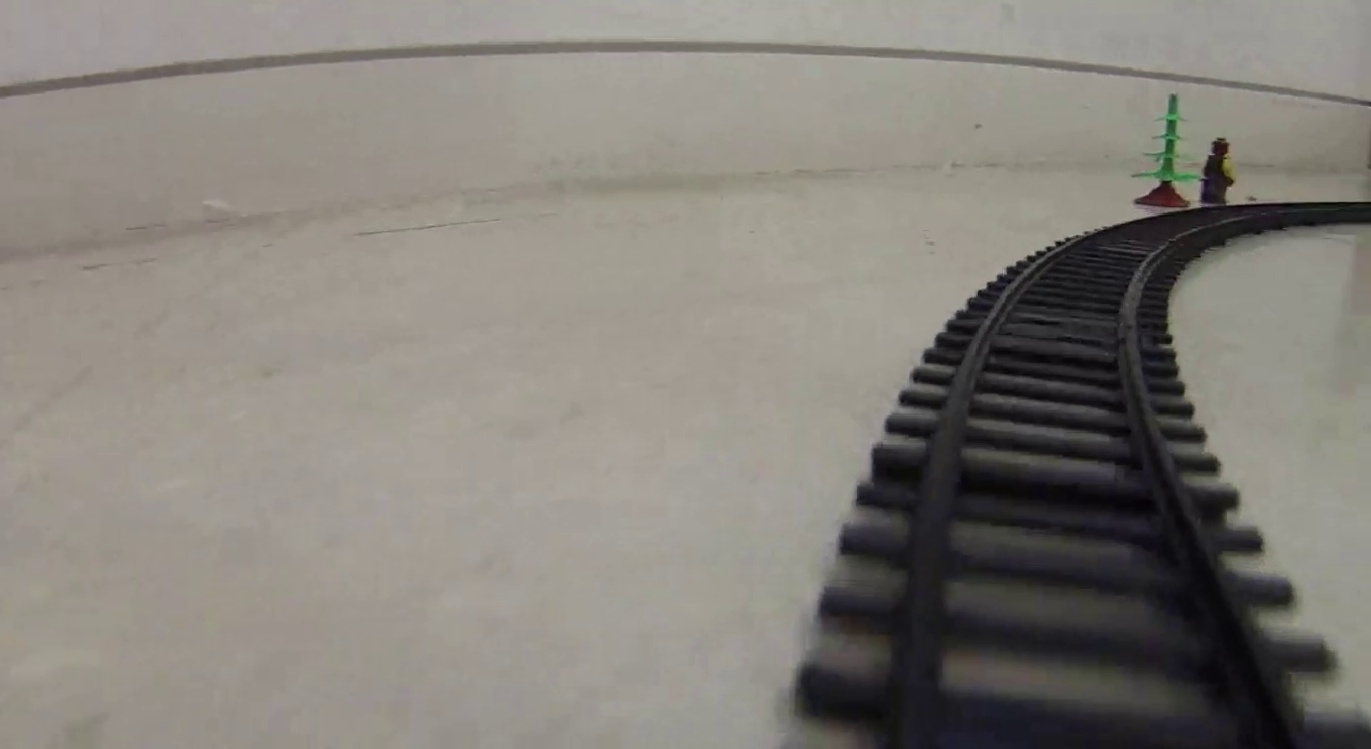people: (1199, 137, 1235, 206)
tree: (1129, 93, 1201, 208)
